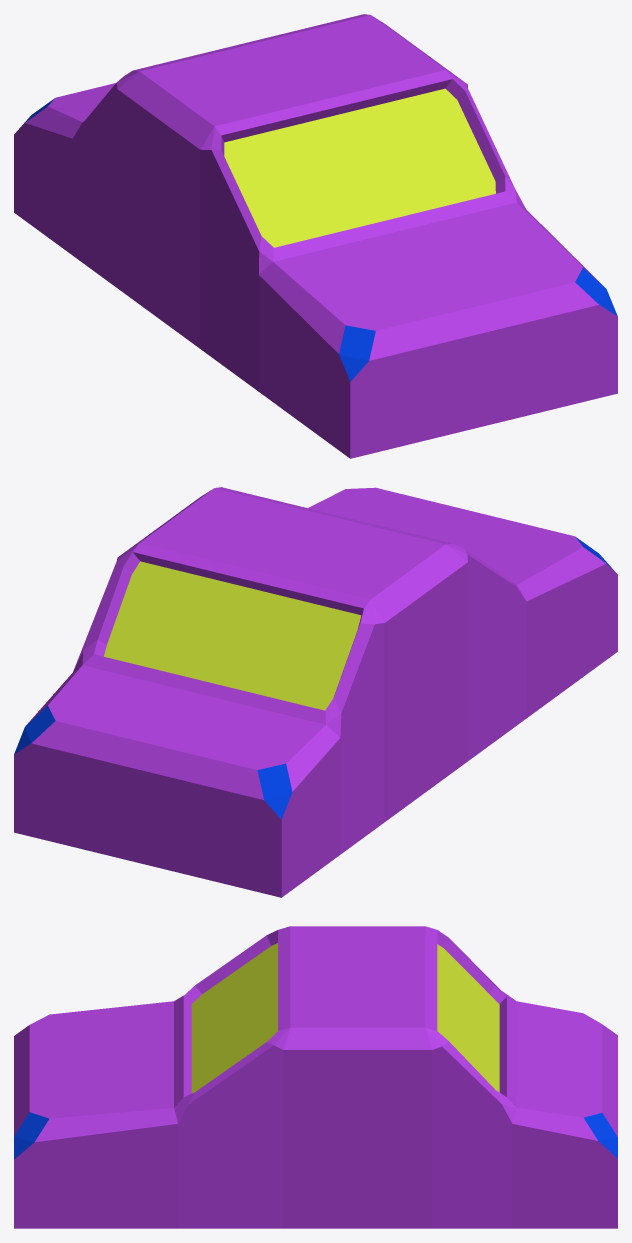
File: Sedan.fbx
3 renders of one model, top to bottom at view 1: azimuth 30°, elevation 25°; view 2: azimuth 150°, elevation 25°; view 3: azimuth 270°, elevation 25°, orthographic. The views are drawn at different scales.
Parts seen in each view (by area): view 1: Sedan; view 2: Sedan; view 3: Sedan.
Boxes of the visible parts, x1,y1,x2,y2 form: Sedan: (14, 14, 617, 458); Sedan: (14, 487, 617, 897); Sedan: (14, 926, 617, 1228).
Bounding box in the file's own units: 260 × 200 × 566.
